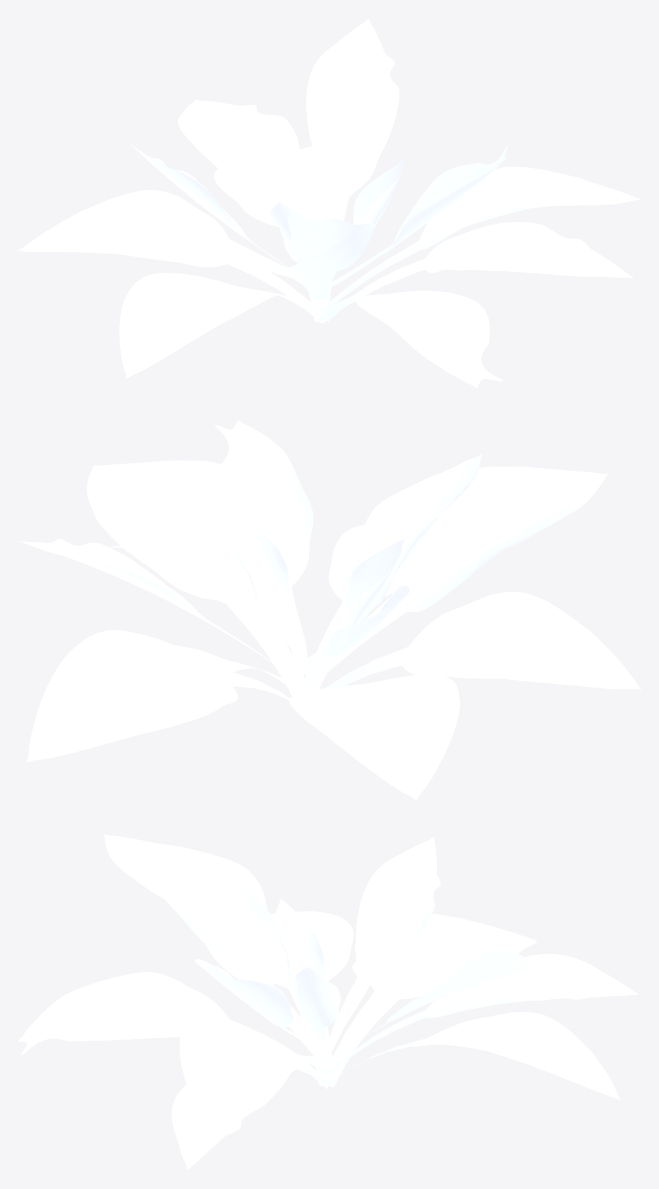
The picture shows the model from 3 angles, top to bottom: view 1: azimuth 30°, elevation 25°; view 2: azimuth 150°, elevation 25°; view 3: azimuth 270°, elevation 25°; orthographic projection. The views are drawn at different scales.
Visible parts, largest first — view 1: SM_FH_Sm_Plant_04_LOD0; view 2: SM_FH_Sm_Plant_04_LOD0; view 3: SM_FH_Sm_Plant_04_LOD0.
Part boxes in pixels (x1,y1,x2,y2): SM_FH_Sm_Plant_04_LOD0: (18, 19, 640, 387); SM_FH_Sm_Plant_04_LOD0: (19, 420, 640, 799); SM_FH_Sm_Plant_04_LOD0: (18, 834, 638, 1169).
Bounding box in the file's own units: 0.7938 × 0.291 × 0.8443.
Materials: 1 (1 with a texture image).
